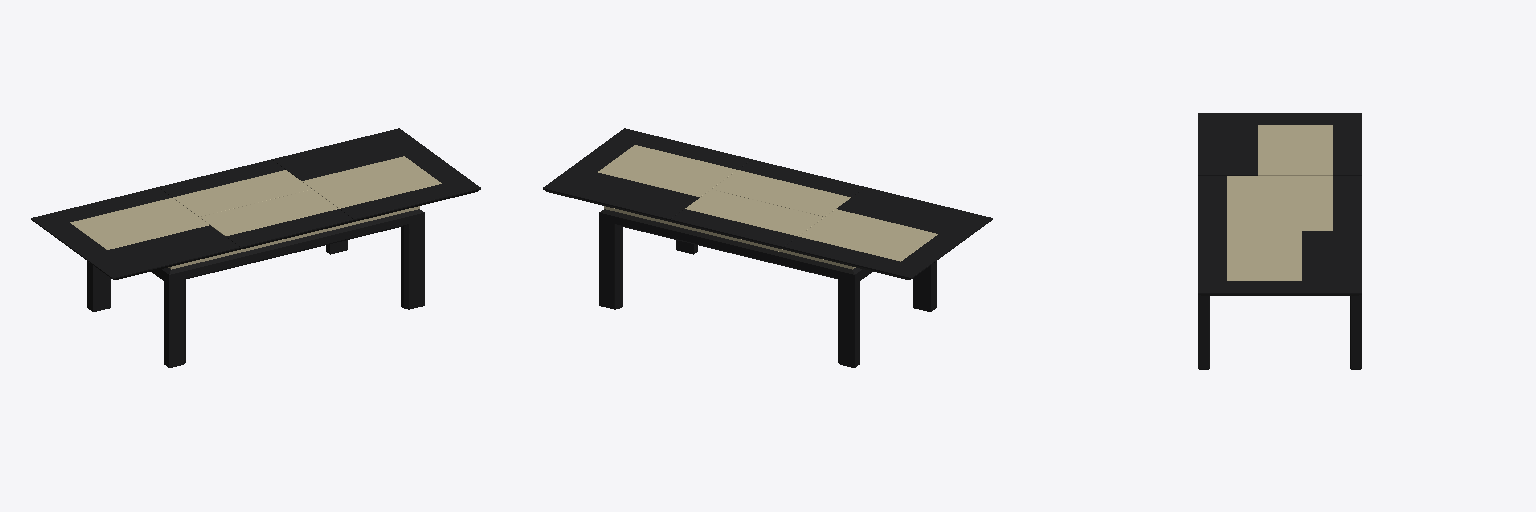
Rendered from Modern_Table_(Deployed).obj.
3 renders of one model, left to right at view 1: azimuth 30°, elevation 25°; view 2: azimuth 150°, elevation 25°; view 3: azimuth 270°, elevation 25°, orthographic.
Parts seen in each view (by area): view 1: default_1_1, default_1_2; view 2: default_1_1, default_1_2; view 3: default_1_1, default_1_2.
Boxes of the visible parts, x1=… form: default_1_1: x1=31, y1=128, x2=480, y2=367; default_1_2: x1=70, y1=156, x2=441, y2=269; default_1_1: x1=543, y1=128, x2=992, y2=367; default_1_2: x1=598, y1=145, x2=937, y2=269; default_1_1: x1=1198, y1=113, x2=1361, y2=369; default_1_2: x1=1227, y1=125, x2=1332, y2=280.
Bounding box in the file's own units: 260 × 71.2 × 100.